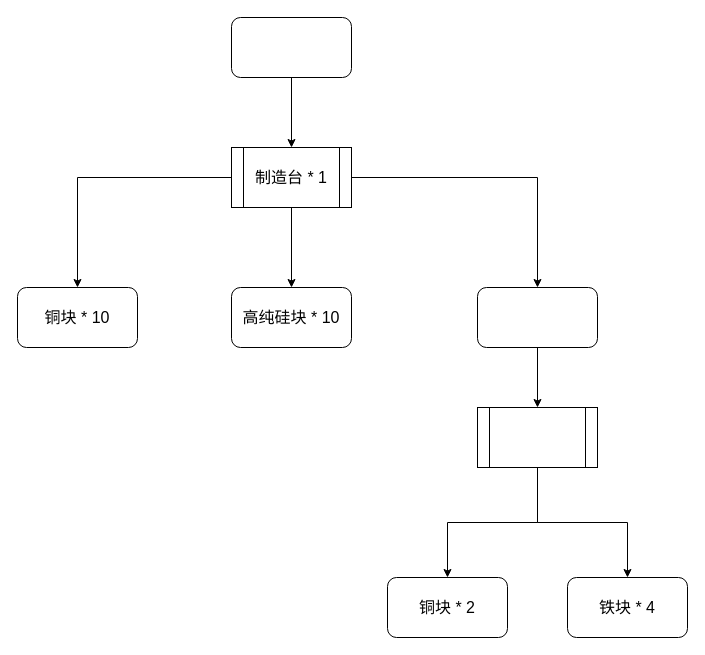
The diagram is 705 pixels wide and 655 high, and some of its shapes have lost their labels. Each missing label, with the centre of its shape:
"制造台 * 2" goes at [537,437].
"太阳能板 * 6" goes at [291,47].
"电路板 * 4" goes at [537,317].
